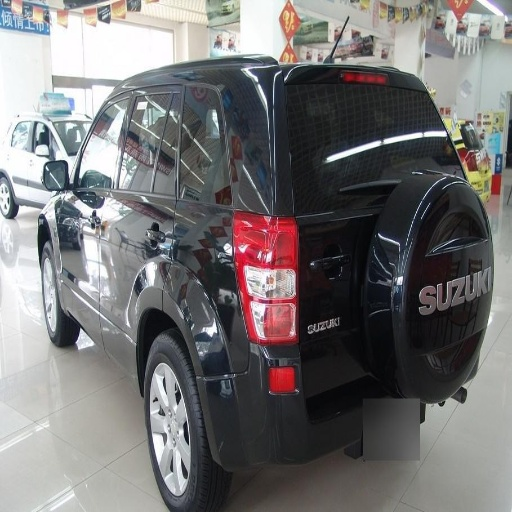back_bumper: (214, 380, 283, 472)
back_glass: (159, 69, 238, 102)
back_left_door: (100, 93, 177, 334)
back_left_light: (234, 213, 296, 342)
front_glass: (390, 97, 454, 162)
front_left_door: (64, 94, 131, 317)
